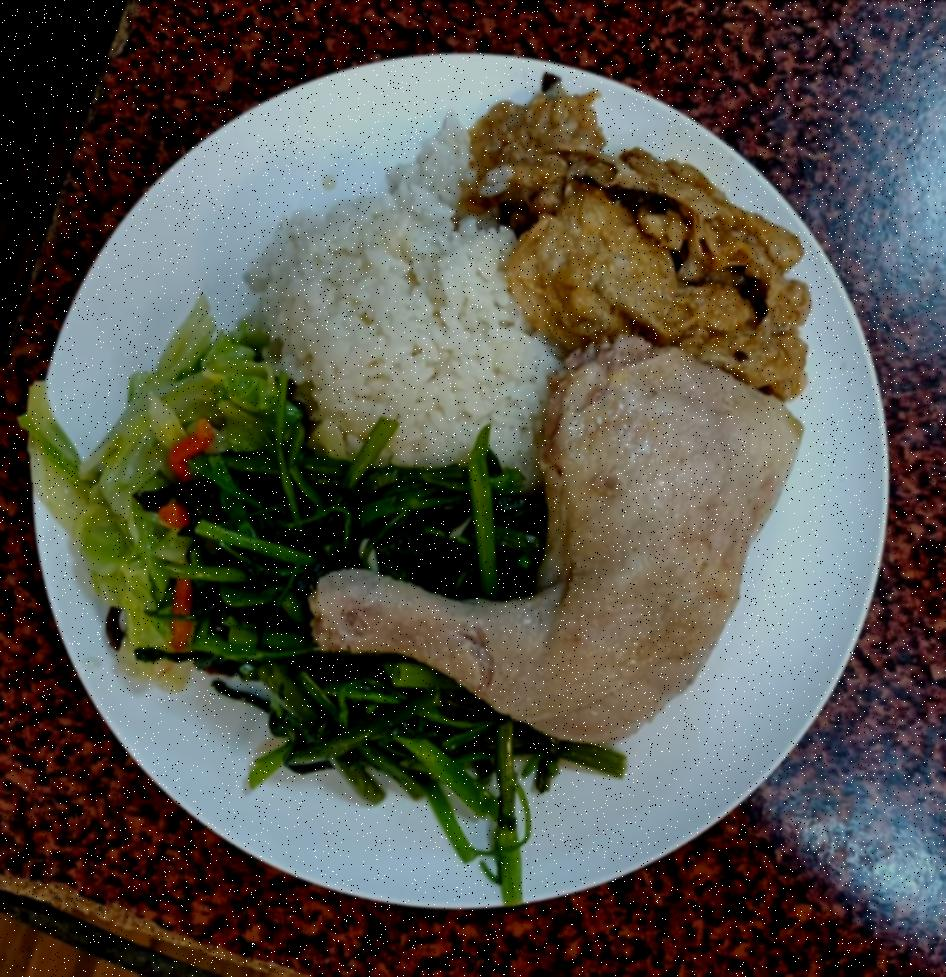big herbal chicken leg: (308, 338, 808, 726)
plate: (13, 41, 902, 922)
side dish: (172, 434, 562, 802), (454, 68, 832, 391), (68, 322, 306, 693)
white rice: (264, 182, 580, 477)
